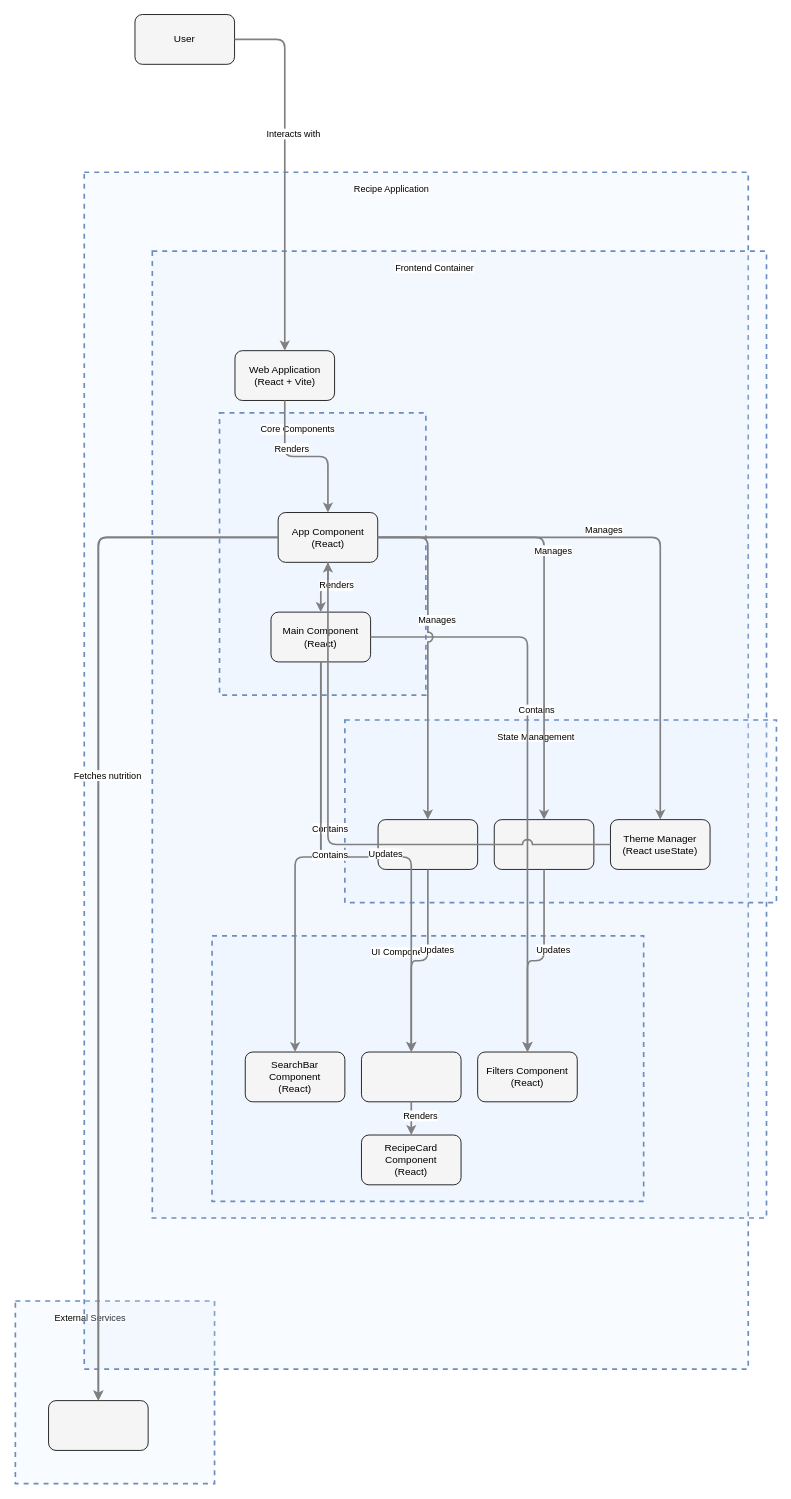
Some shapes in this 791 by 1499 pixel diagram are drawn without their labels. The shapes that lost their labels are listed below. From the top down, each one's centre as x and y in pixels, then its label:
At (x=427, y=844): "Recipe State (React useState)".
At (x=543, y=844): "Filter State (React useState)".
At (x=411, y=1076): "RecipeList Component (React)".
At (x=98, y=1425): "Spoonacular API (REST API)".
